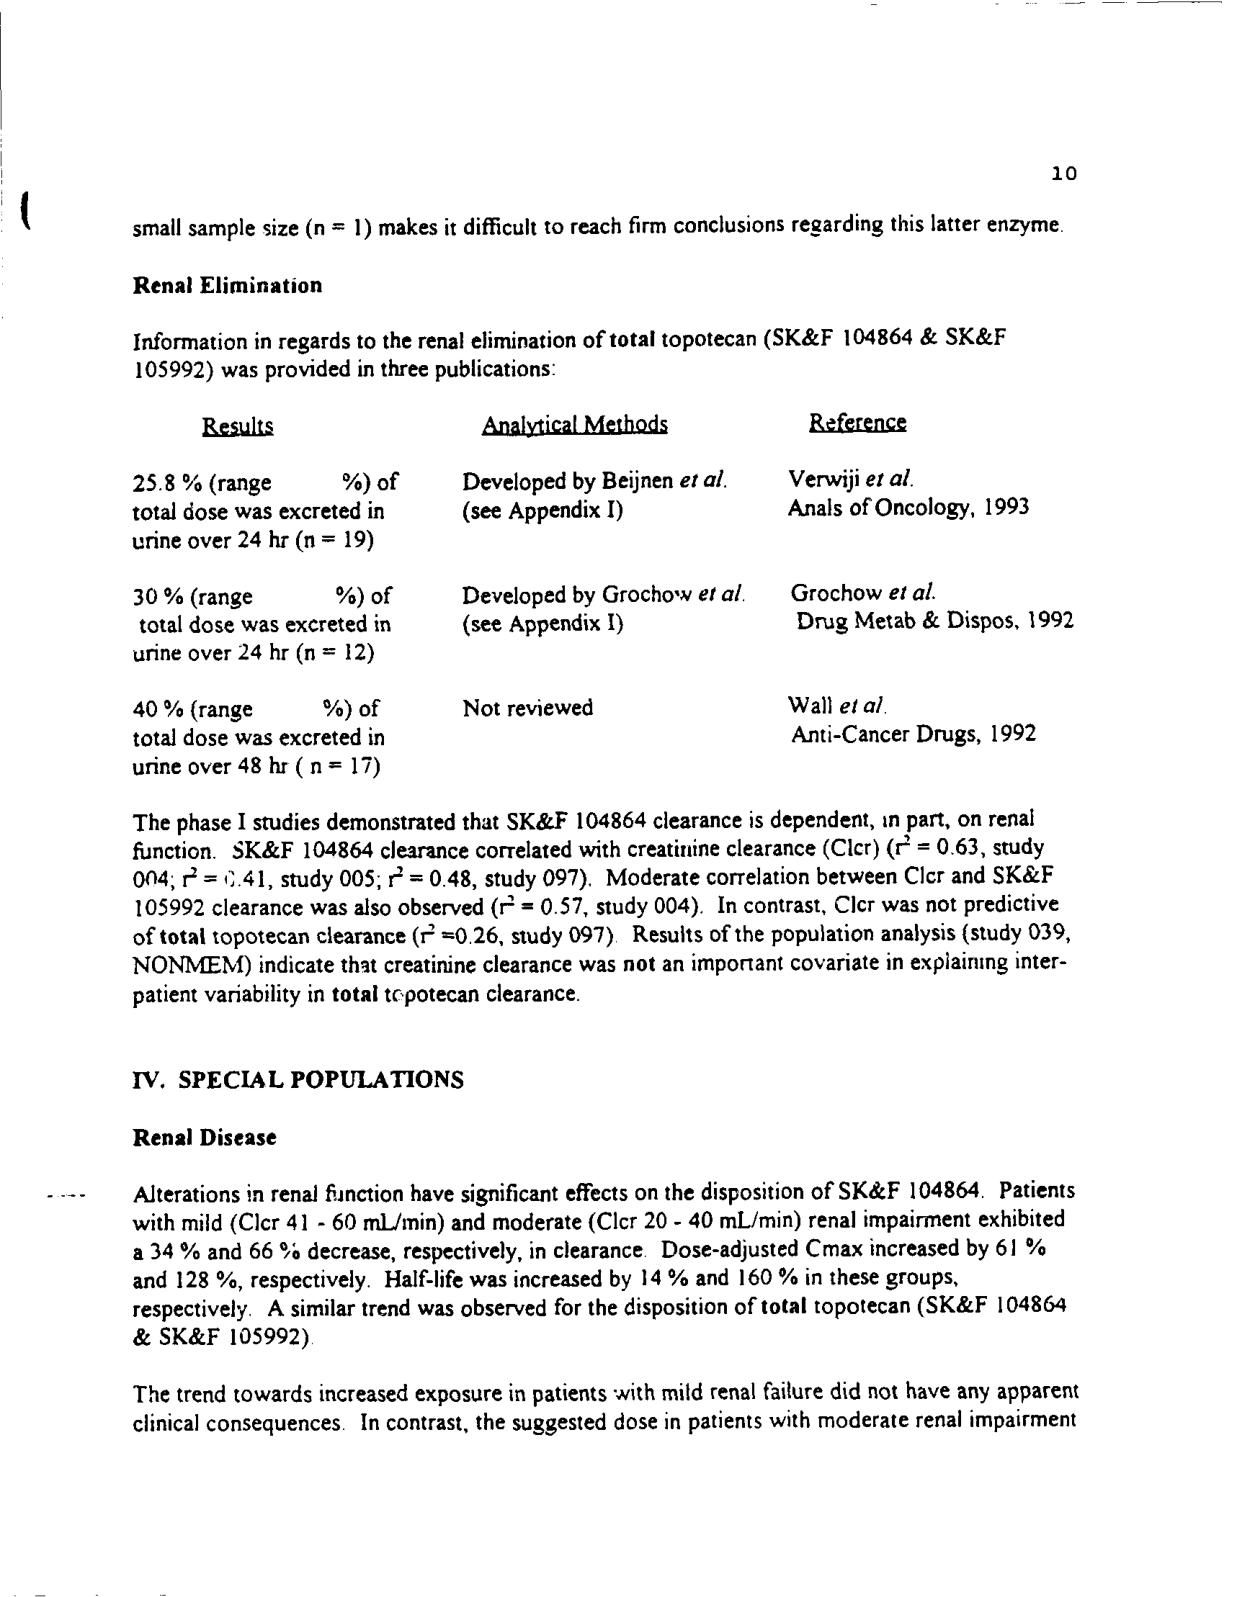nolines: (128, 414, 1079, 779)
